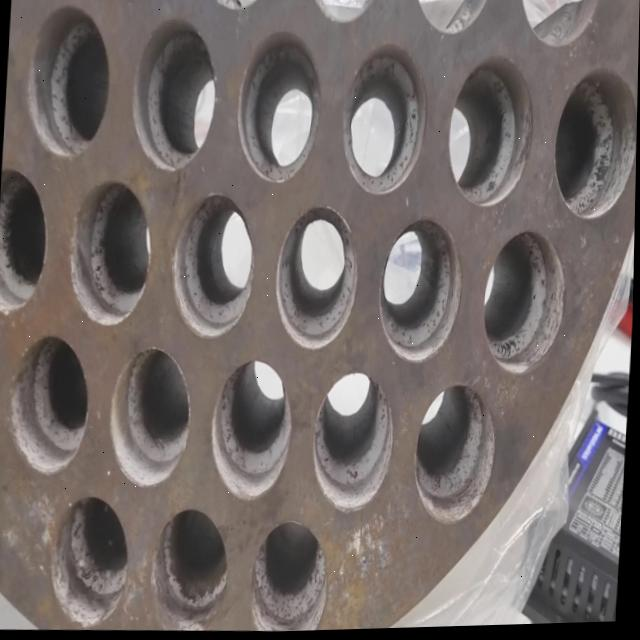Hole: (128, 17, 220, 175), (22, 1, 113, 160), (339, 43, 430, 200), (444, 56, 536, 211), (235, 28, 324, 187), (550, 68, 639, 225), (65, 178, 156, 329), (168, 190, 258, 342), (480, 229, 570, 380), (273, 204, 362, 354), (208, 357, 298, 505), (377, 216, 465, 367), (107, 344, 196, 491), (413, 382, 501, 529), (7, 331, 94, 478), (311, 371, 398, 518), (49, 491, 134, 630), (149, 504, 232, 634), (252, 519, 334, 634), (0, 165, 52, 316)
